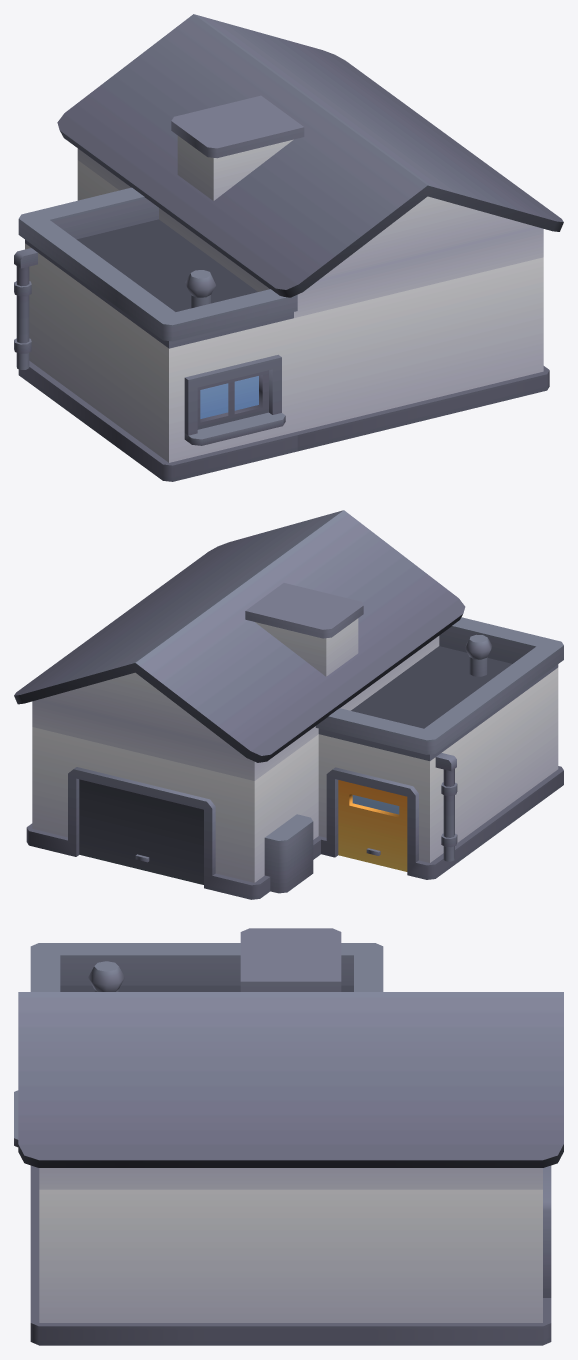
File: building-h.glb
3 renders of one model, top to bottom at view 1: azimuth 30°, elevation 25°; view 2: azimuth 150°, elevation 25°; view 3: azimuth 270°, elevation 25°, orthographic. The views are drawn at different scales.
Parts seen in each view (by area): view 1: building-h; view 2: building-h; view 3: building-h.
Boxes of the visible parts, bbox=[...] form: building-h: bbox=[14, 14, 563, 481]; building-h: bbox=[14, 510, 563, 899]; building-h: bbox=[14, 928, 563, 1345].
Size of the model in its own units: 1.32 by 0.7336 by 1.31.
Materials: 1 (1 with a texture image).
